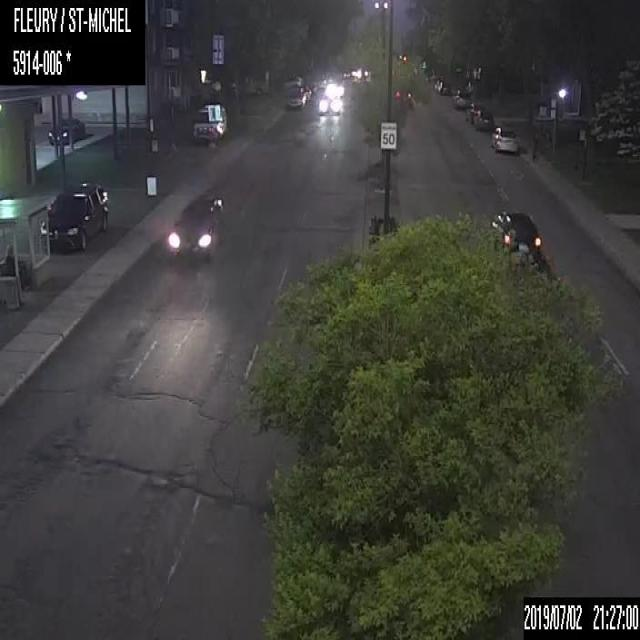pedestrian: (5, 243, 23, 307)
vehicle: (40, 179, 108, 251), (167, 189, 226, 263), (490, 208, 542, 261), (192, 103, 228, 145), (48, 116, 86, 144), (489, 124, 518, 154), (232, 71, 268, 94), (284, 83, 312, 108), (470, 104, 493, 131), (282, 74, 302, 89), (432, 78, 450, 94), (451, 88, 465, 108), (464, 102, 476, 116), (319, 72, 326, 85), (326, 72, 334, 82)
